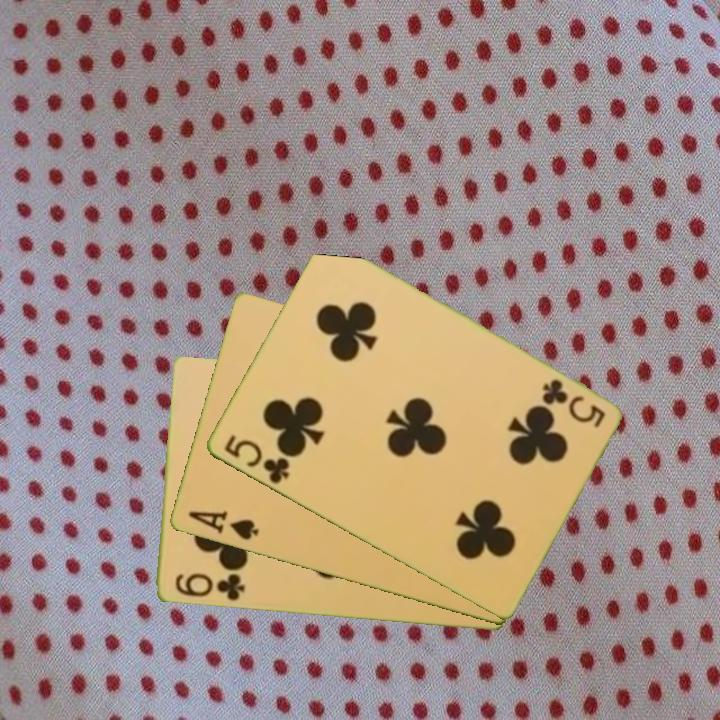5c: (219, 431, 292, 487), (538, 375, 608, 432)
6c: (171, 570, 247, 604)
As: (184, 507, 261, 544)
